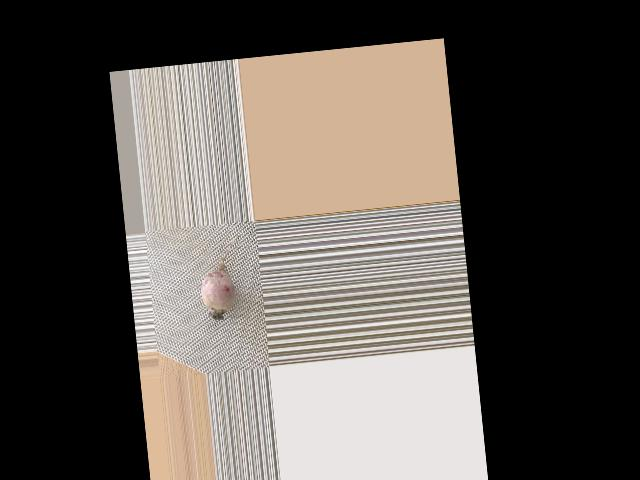beet: (196, 232, 251, 324)
